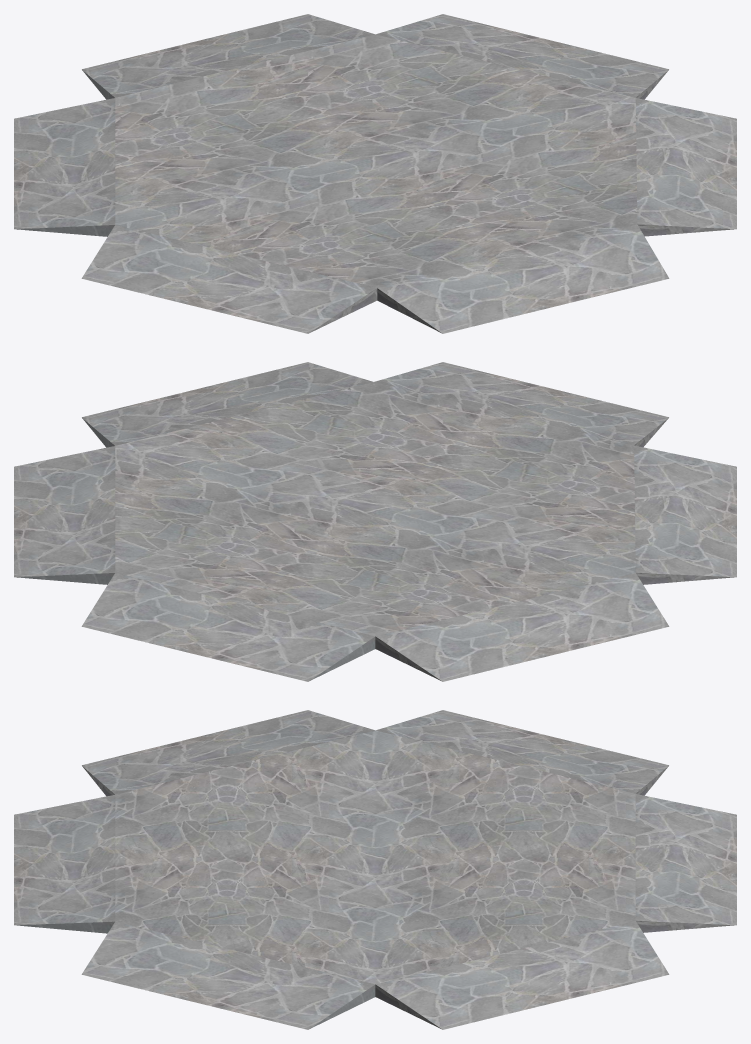
The model's file is Road.fbx.
3 views of the same model, one above another, from view 1: azimuth 30°, elevation 25°; view 2: azimuth 150°, elevation 25°; view 3: azimuth 270°, elevation 25° (orthographic).
Visible parts, largest first — view 1: Model; view 2: Model; view 3: Model.
Boxes of the visible parts, left/top/right/bottom form: Model: left=14, top=14, right=736, bottom=333; Model: left=14, top=362, right=736, bottom=681; Model: left=14, top=710, right=736, bottom=1029.
Size of the model in its own units: 2.72 by 0.05 by 2.6.
